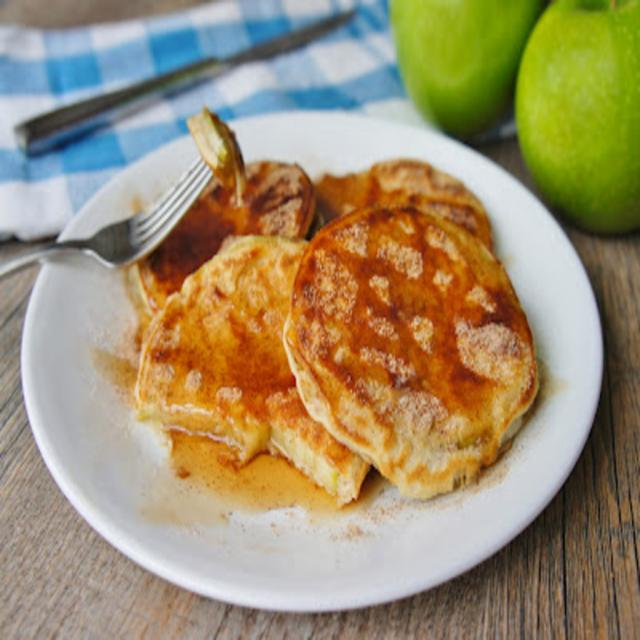Healty Apple: (520, 22, 634, 233), (389, 0, 544, 142)
